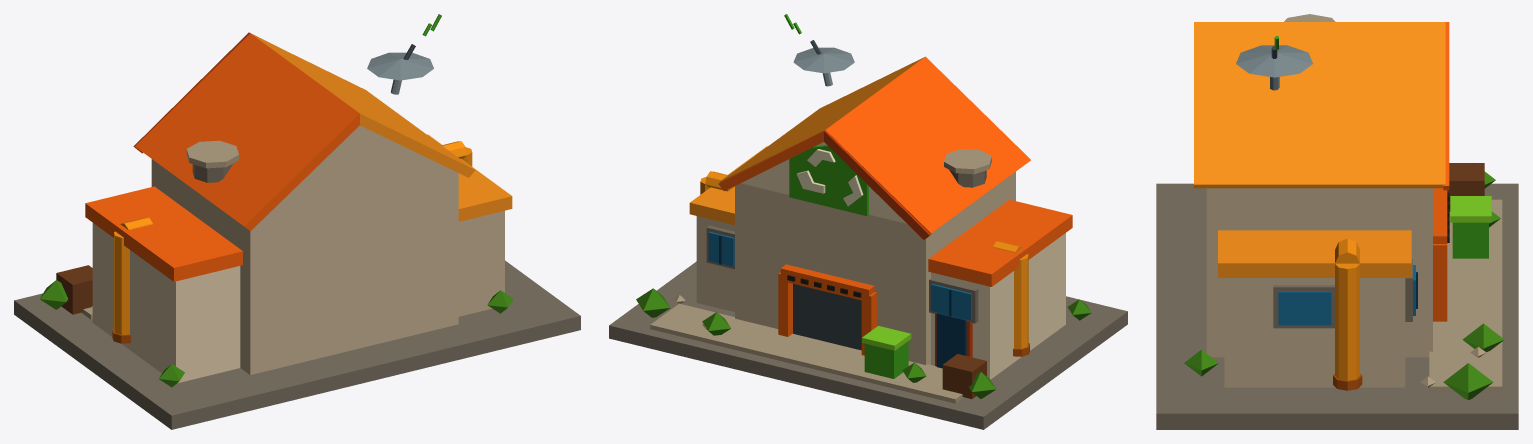
Rendered from 垃圾星球_低模中转站.obj.
3 renders of one model, left to right at view 1: azimuth 30°, elevation 25°; view 2: azimuth 150°, elevation 25°; view 3: azimuth 270°, elevation 25°, orthographic. The views are drawn at different scales.
Visible parts, largest first — view 1: Main_Building_Walls, Foundation_Slab, Roof_Left_Slope, Left_Wing, Left_Wing_Roof, Rear_Gable_Wall, Roof_Right_Slope, Right_Wing, Right_Wing_Roof, Pipe_-1_Vertical, Satellite_Dish, Crate_Body (+1 smaller); view 2: Main_Building_Walls, Roof_Left_Slope, Foundation_Slab, Front_Pavement, Left_Wing, Left_Wing_Roof, Garage_Dark_Opening, Recycle_Sign_Plate, Roof_Right_Slope, Right_Wing, Front_Gable_Wall, Garage_Upper_Frame (+16 smaller); view 3: Roof_Right_Slope, Foundation_Slab, Right_Wing, Main_Building_Walls, Right_Wing_Roof, Front_Pavement, Pipe_1_Vertical, Right_Side_Window_Glass, Satellite_Dish, Recycling_Bin_Body, Crate_Body, Garage_Right_Frame (+9 smaller).
Part boxes in pixels (x1,y1,x2,y2): Main_Building_Walls: (151, 159, 458, 374); Foundation_Slab: (14, 260, 580, 429); Roof_Left_Slope: (135, 33, 359, 230); Left_Wing: (92, 223, 240, 383); Left_Wing_Roof: (85, 186, 242, 281); Rear_Gable_Wall: (265, 125, 454, 217); Roof_Right_Slope: (252, 34, 474, 177); Right_Wing: (458, 210, 504, 316); Right_Wing_Roof: (427, 134, 512, 221); Pipe_-1_Vertical: (114, 231, 129, 334); Satellite_Dish: (367, 52, 433, 80); Crate_Body: (56, 265, 92, 314); Main_Building_Walls: (735, 171, 1015, 364); Roof_Left_Slope: (826, 56, 1030, 233); Foundation_Slab: (609, 261, 1127, 429); Front_Pavement: (650, 303, 963, 403); Left_Wing: (931, 233, 1065, 379); Left_Wing_Roof: (928, 199, 1072, 286); Garage_Dark_Opening: (793, 284, 861, 350); Recycle_Sign_Plate: (789, 145, 868, 216); Roof_Right_Slope: (720, 57, 924, 182); Right_Wing: (696, 216, 734, 311); Front_Gable_Wall: (741, 142, 906, 223); Garage_Upper_Frame: (780, 264, 874, 302); Roof_Right_Slope: (1194, 22, 1445, 188); Foundation_Slab: (1156, 183, 1518, 429); Right_Wing: (1224, 278, 1405, 387); Main_Building_Walls: (1206, 188, 1432, 357); Right_Wing_Roof: (1218, 230, 1411, 277); Front_Pavement: (1429, 199, 1502, 392); Pipe_1_Vertical: (1335, 263, 1359, 380); Right_Side_Window_Glass: (1278, 291, 1331, 325); Satellite_Dish: (1236, 45, 1312, 77); Recycling_Bin_Body: (1452, 222, 1488, 258); Crate_Body: (1447, 163, 1484, 211); Garage_Right_Frame: (1433, 244, 1447, 321).
Bounding box in the file's own units: 10.8 × 7.54 × 7.2.
